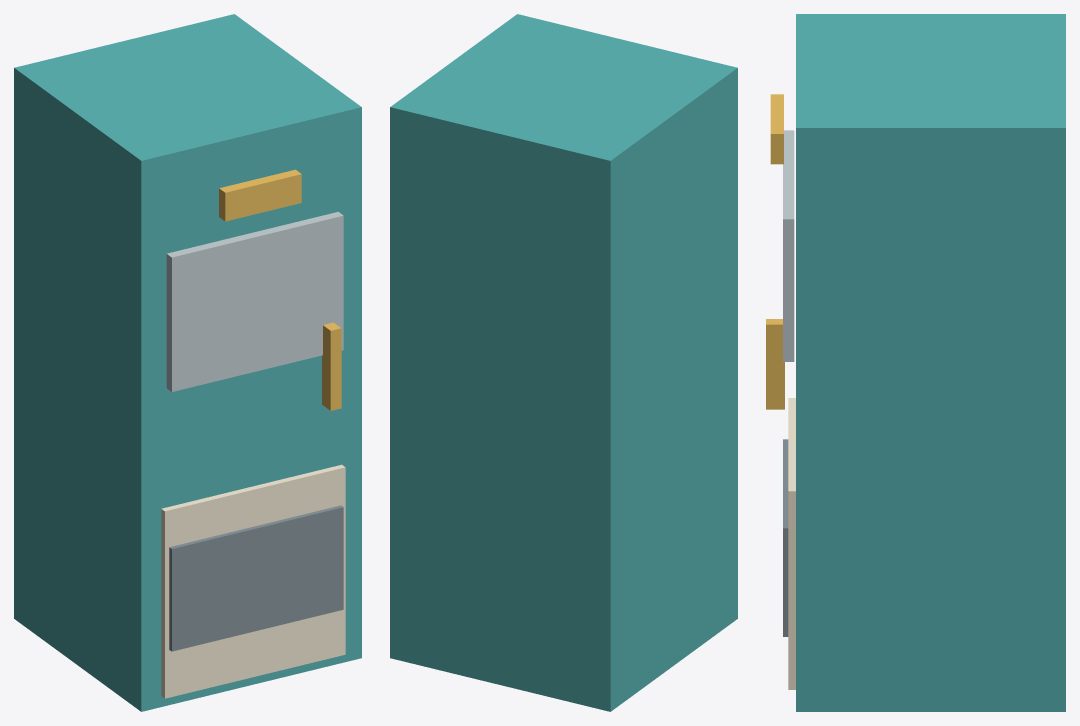
File: fridge_pro.glb
3 renders of one model, left to right at view 1: azimuth 30°, elevation 25°; view 2: azimuth 150°, elevation 25°; view 3: azimuth 270°, elevation 25°, orthographic. The views are drawn at different scales.
Visible parts, largest first — view 1: fridge_pro; view 2: fridge_pro; view 3: fridge_pro.
Boxes of the visible parts, x1,y1,x2,y2 form: fridge_pro: [14, 14, 361, 711]; fridge_pro: [390, 14, 737, 711]; fridge_pro: [766, 14, 1065, 711].
Bounding box in the file's own units: 0.72 × 1.72 × 0.8.
